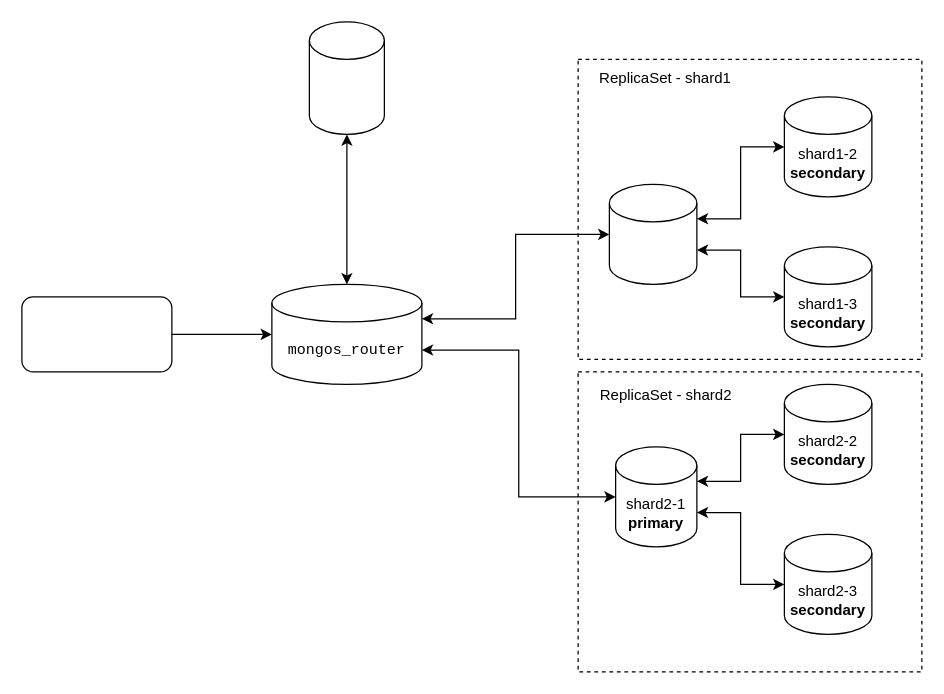
Some shapes in this 944 by 694 pixel diagram are drawn without their labels. Here are the shapes that lost their labels. From the top down, the centre of each, then its label:
(346,77): configSrv
(652,233): shard1-1 primary
(96,334): pymongo-api
